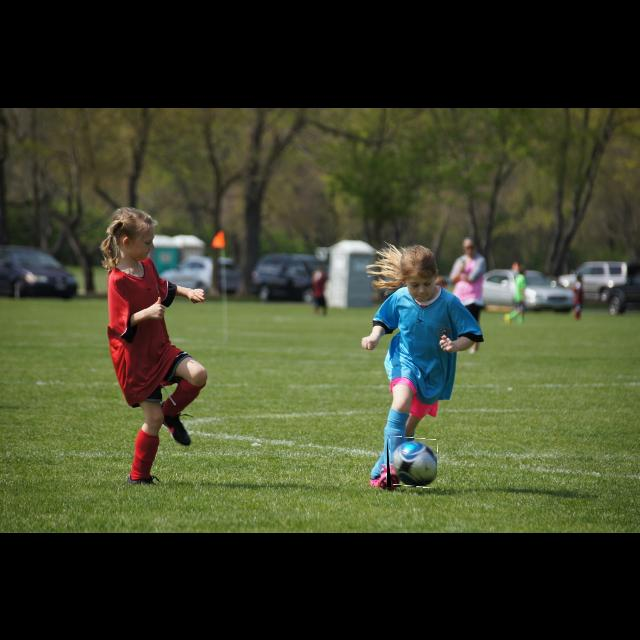Football: (387, 437, 437, 487)
